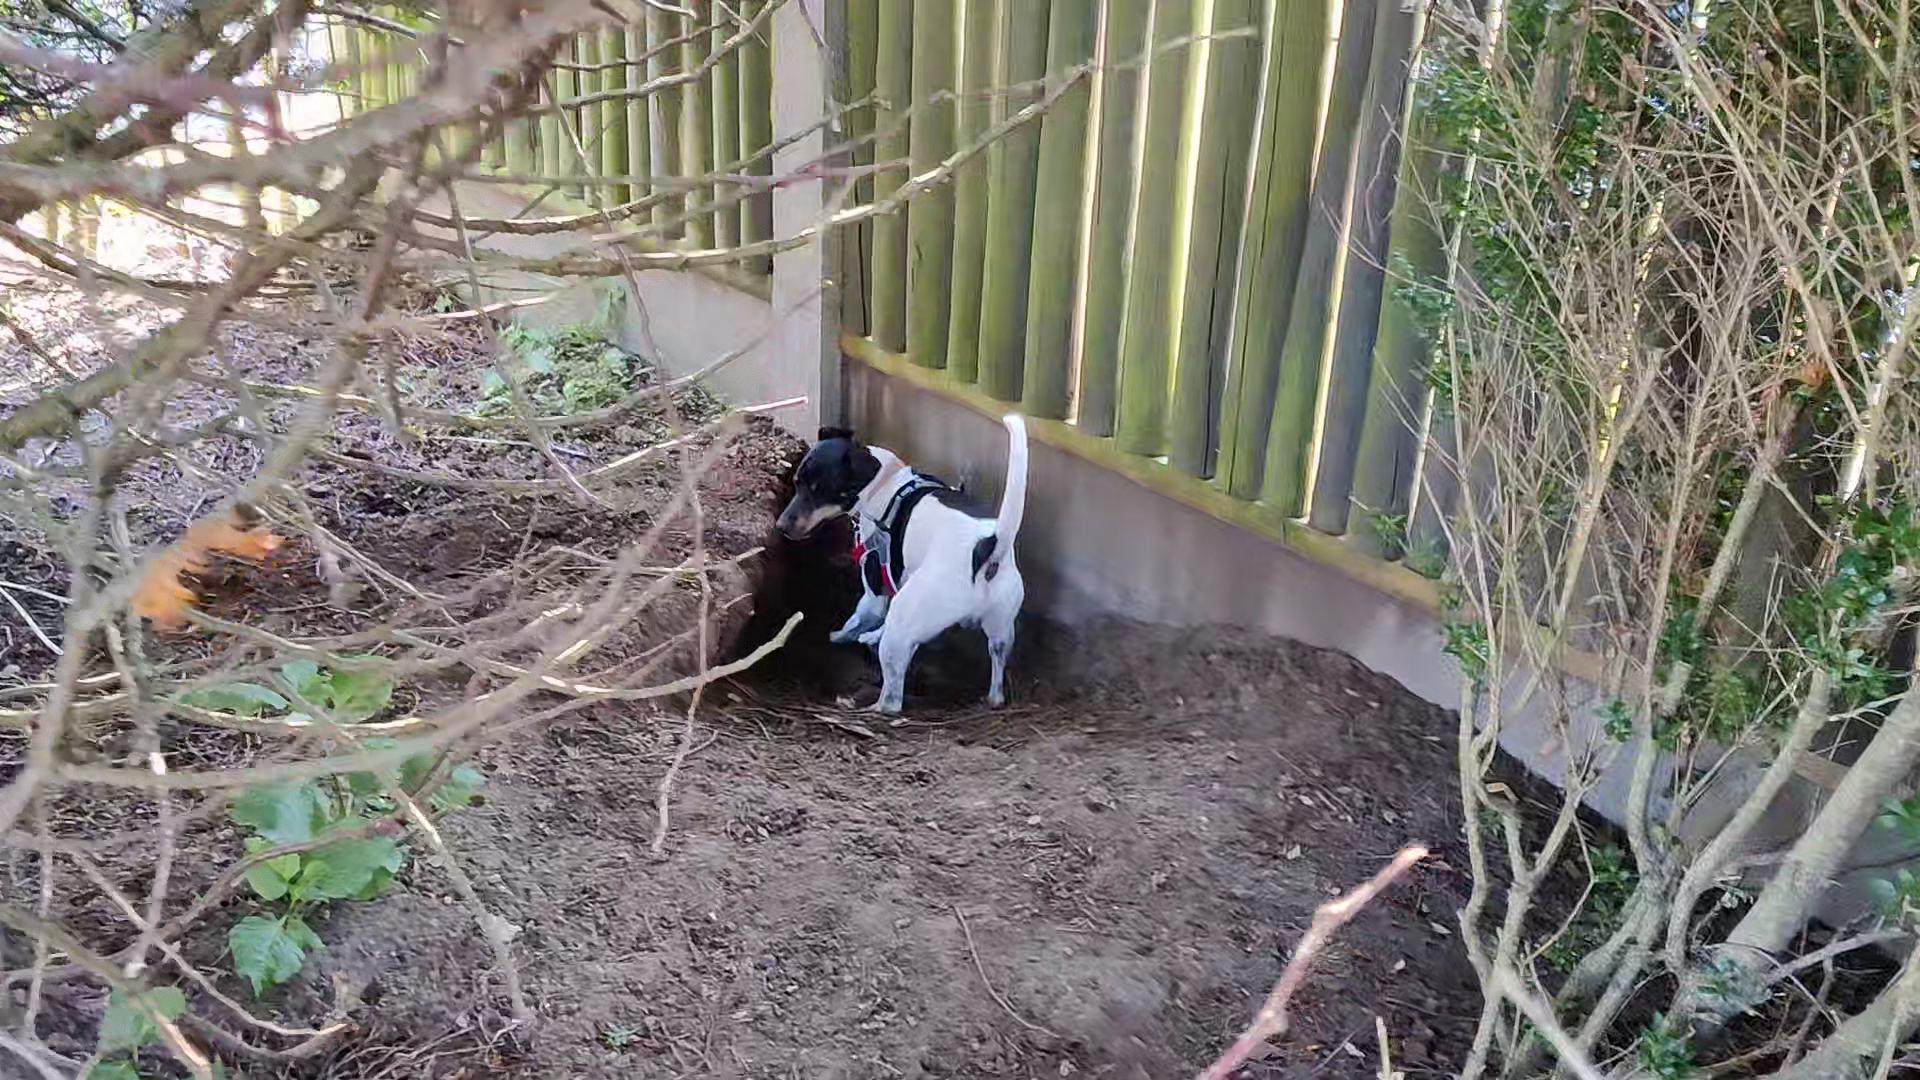Dog: (764, 400, 1069, 738)
